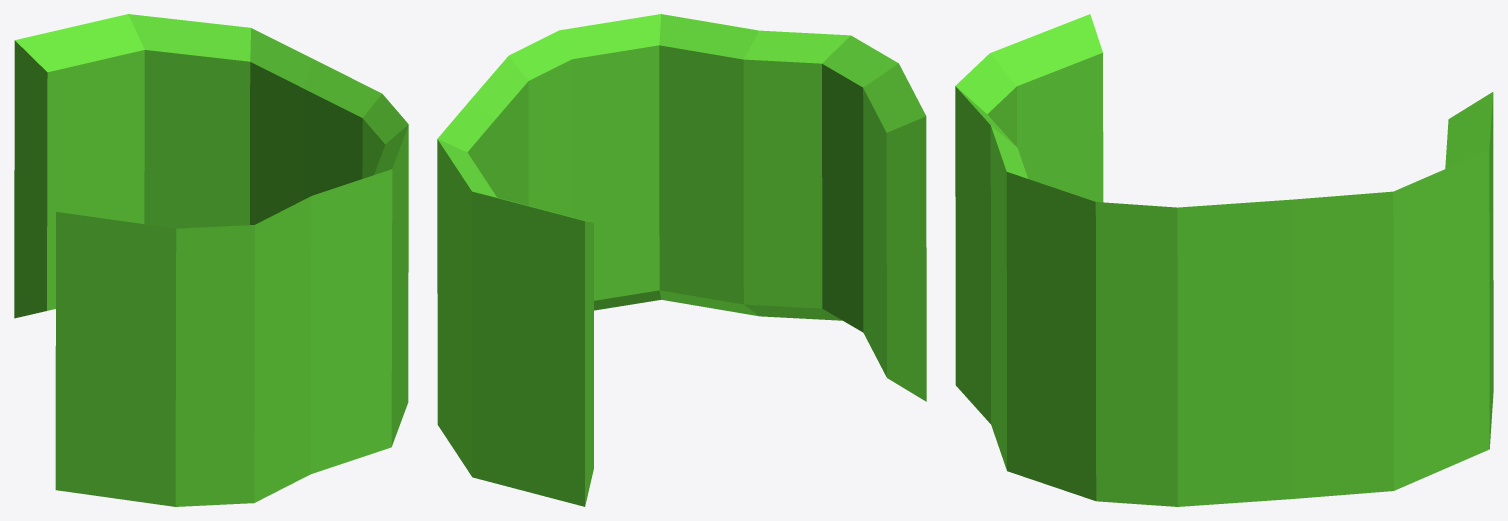
Rendered from InvWall4.fbx.
3 renders of one model, left to right at view 1: azimuth 30°, elevation 25°; view 2: azimuth 150°, elevation 25°; view 3: azimuth 270°, elevation 25°, orthographic. The views are drawn at different scales.
Visible parts, largest first — view 1: Island 4.001; view 2: Island 4.001; view 3: Island 4.001.
Boxes of the visible parts, <box> form: Island 4.001: <box>14,14,408,506</box>; Island 4.001: <box>437,14,926,506</box>; Island 4.001: <box>955,14,1493,506</box>.
Size of the model in its own units: 1610 by 1172 by 1899.
